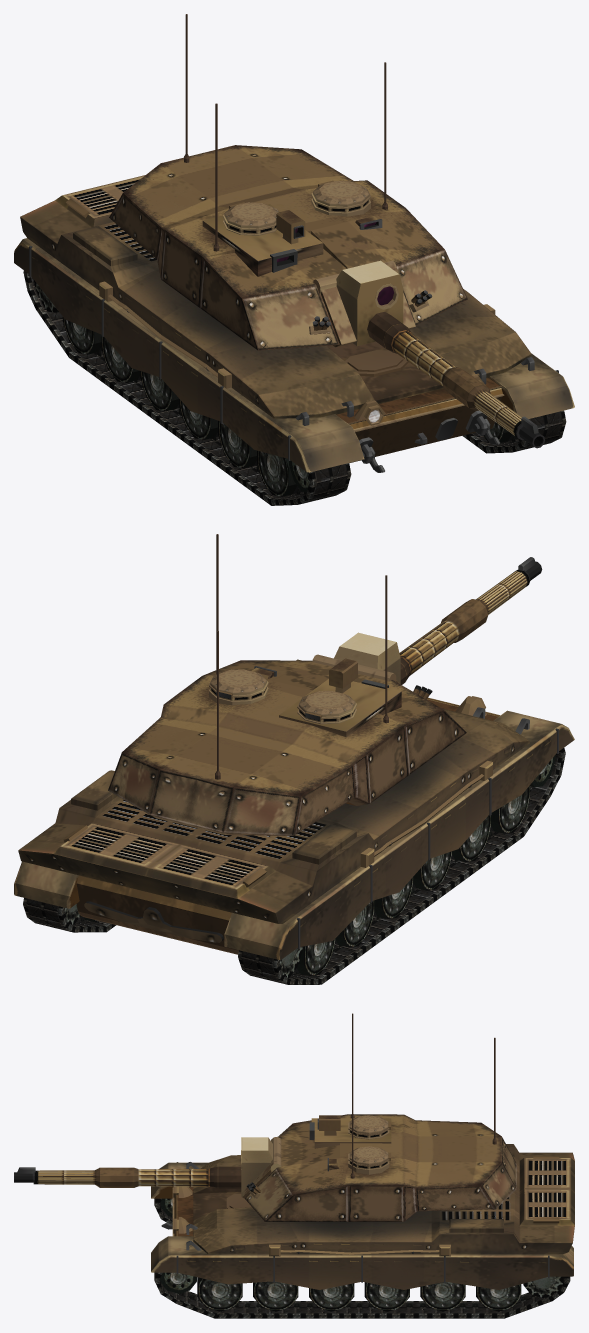
Rendered from challenger4.fbx.
3 views of the same model, one above another, from view 1: azimuth 30°, elevation 25°; view 2: azimuth 150°, elevation 25°; view 3: azimuth 270°, elevation 25° (orthographic). The views are drawn at different scales.
Visible parts, largest first — view 1: polySurface416, polySurface411, polySurface269, polySurface418, polySurface417, pCylinder46, pCylinder47, pCylinder49, pCylinder51, pCylinder50, pCylinder48; view 2: polySurface416, polySurface411, polySurface418, polySurface269, polySurface417, pCylinder46, pCylinder48, pCylinder51, pCylinder50, pCylinder47, pCylinder49; view 3: polySurface416, polySurface411, polySurface269, polySurface417, pCylinder25, pCylinder40, pCylinder43, pCylinder42, pCylinder41, pCylinder44, pCylinder26, pCylinder24.
Boxes of the visible parts, box(x1,y1,x2,y2) form: polySurface416: box(14, 175, 574, 472); polySurface411: box(109, 14, 467, 350); polySurface269: box(313, 260, 544, 448); polySurface418: box(23, 270, 351, 505); polySurface417: box(462, 410, 566, 453); pCylinder46: box(257, 450, 302, 496); pCylinder47: box(218, 420, 257, 468); pCylinder49: box(140, 371, 179, 411); pCylinder51: box(62, 317, 101, 354); pCylinder50: box(101, 336, 140, 382); pCylinder48: box(179, 399, 218, 439); polySurface416: box(14, 659, 574, 959); polySurface411: box(108, 534, 466, 835); polySurface418: box(238, 748, 565, 984); polySurface269: box(312, 557, 542, 684); polySurface417: box(23, 898, 116, 932); pCylinder46: box(490, 785, 529, 833); pCylinder48: box(413, 851, 451, 890); pCylinder51: box(294, 938, 335, 975); pCylinder50: box(335, 900, 374, 947); pCylinder47: box(451, 815, 490, 862); pCylinder49: box(374, 877, 413, 918); polySurface416: box(151, 1144, 574, 1289); polySurface411: box(244, 1013, 516, 1221); polySurface269: box(14, 1137, 281, 1198); polySurface417: box(154, 1272, 570, 1318); pCylinder25: box(197, 1277, 242, 1311); pCylinder40: box(253, 1281, 298, 1311); pCylinder43: box(420, 1282, 465, 1311); pCylinder42: box(364, 1282, 409, 1311); pCylinder41: box(309, 1283, 354, 1311); pCylinder44: box(476, 1284, 521, 1311); pCylinder26: box(523, 1276, 563, 1297); pCylinder24: box(160, 1272, 196, 1293).
Size of the model in its own units: 303 by 342 by 755.
